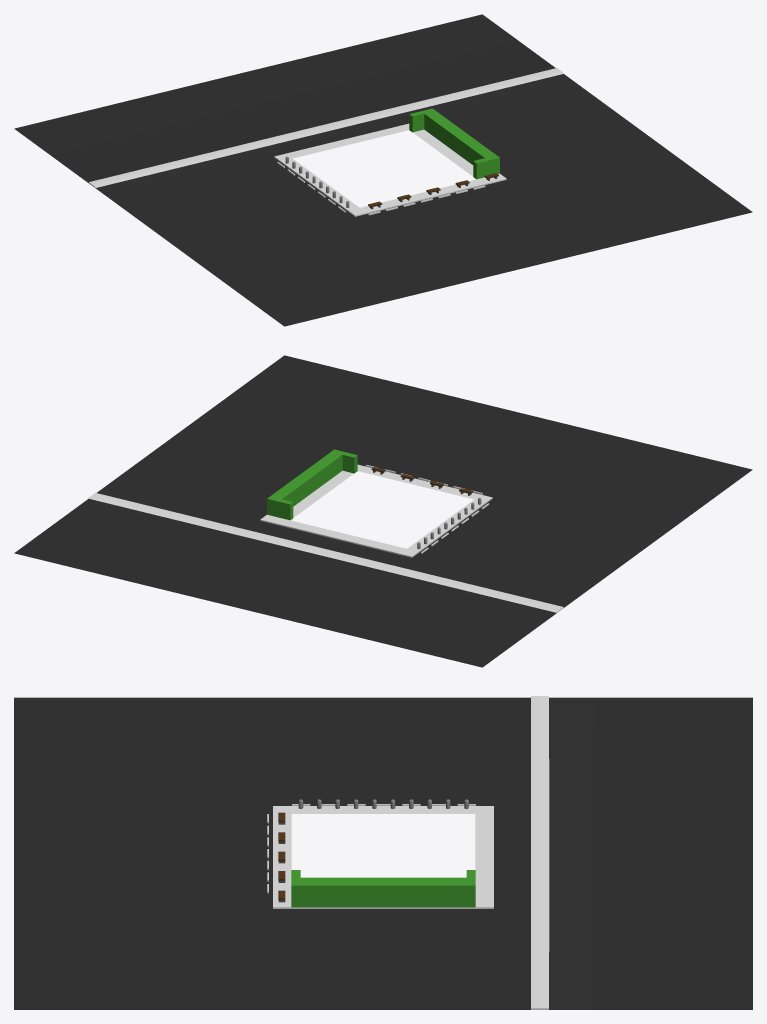
The model's file is background.glb.
3 renders of one model, top to bottom at view 1: azimuth 30°, elevation 25°; view 2: azimuth 150°, elevation 25°; view 3: azimuth 270°, elevation 25°, orthographic. The views are drawn at different scales.
Visible parts, largest first — view 1: Plane; view 2: Plane; view 3: Plane.
Boxes of the visible parts, left/top/right/bottom form: Plane: left=14, top=14, right=752, bottom=326; Plane: left=14, top=355, right=752, bottom=667; Plane: left=14, top=696, right=752, bottom=1009.
Size of the model in its own units: 80.3 by 2.94 by 80.3.
6 materials, 1 textured.
